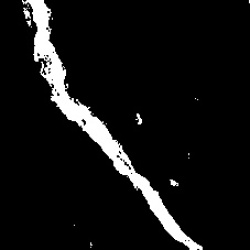crack: (21, 1, 204, 249)
pinhole: (136, 112, 142, 126), (171, 180, 181, 185)
